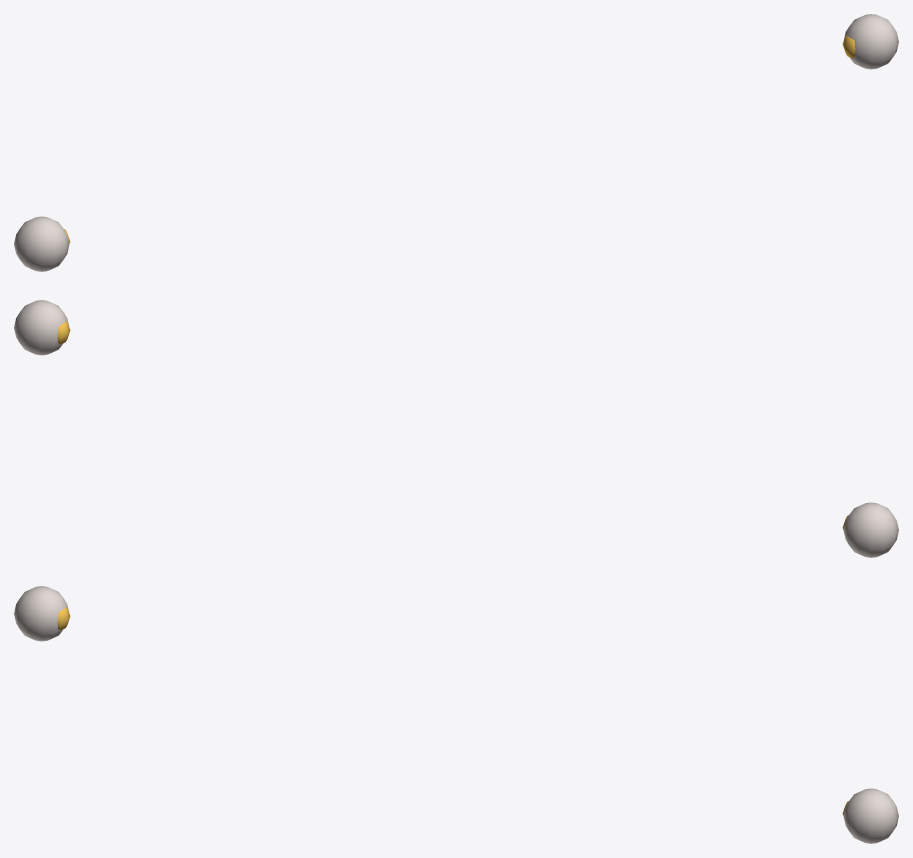
The model's file is pearl_studs.glb.
The picture shows the model from 3 angles, top to bottom: view 1: azimuth 30°, elevation 25°; view 2: azimuth 150°, elevation 25°; view 3: azimuth 330°, elevation 25°; orthographic projection.
Parts seen in each view (by area): view 1: pearl_studs; view 2: pearl_studs; view 3: pearl_studs.
Part boxes in pixels (box(x1,y1,x2,y2)): pearl_studs: box(14, 14, 898, 271); pearl_studs: box(14, 300, 898, 557); pearl_studs: box(14, 586, 898, 843).
Bounding box in the file's own units: 0.2264 × 0.0124 × 0.0124.
